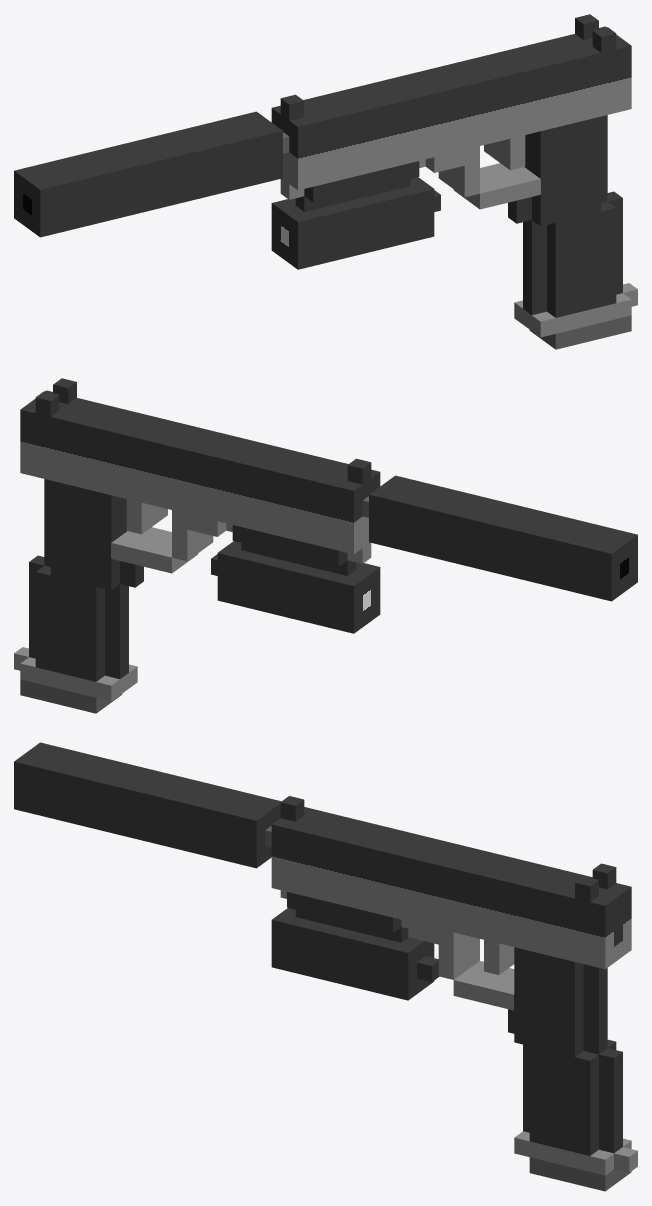
File: Pistol w Suppressor.glb
3 views of the same model, one above another, from view 1: azimuth 30°, elevation 25°; view 2: azimuth 150°, elevation 25°; view 3: azimuth 330°, elevation 25° (orthographic).
Visible parts, largest first — view 1: model; view 2: model; view 3: model.
Part boxes in pixels (bbox=[...]): model: bbox=[14, 14, 637, 349]; model: bbox=[14, 378, 637, 713]; model: bbox=[14, 742, 637, 1191].
Bounding box in the file's own units: 4 × 1.9 × 0.3.
Materials: 1 (1 with a texture image).
